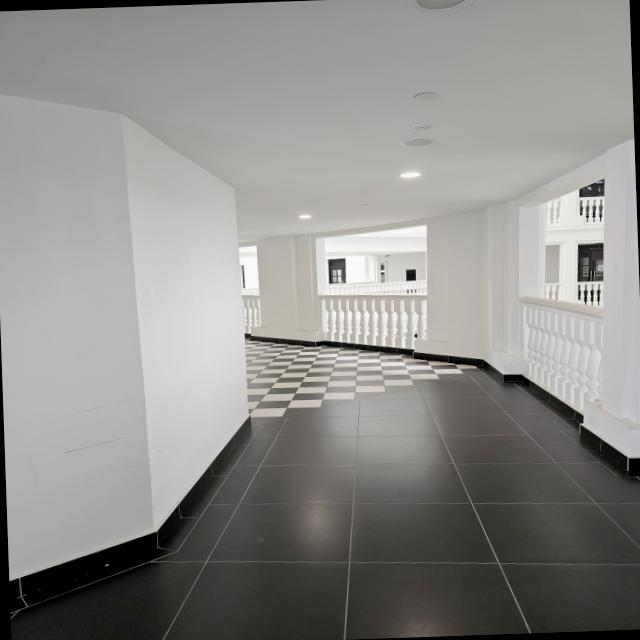footpath: (260, 379, 510, 640)
